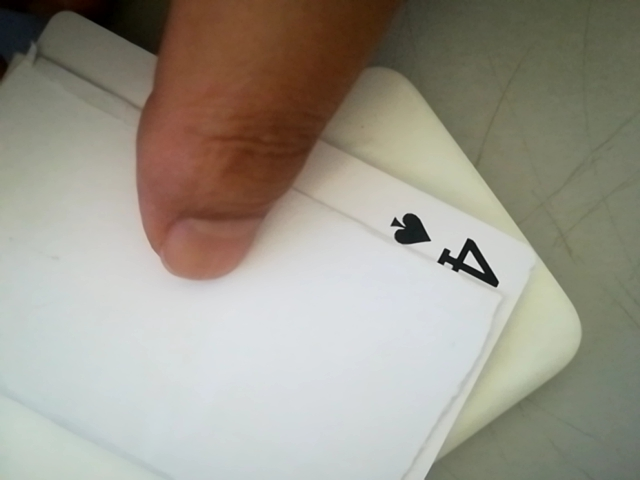ht 4: (365, 200, 523, 292)
